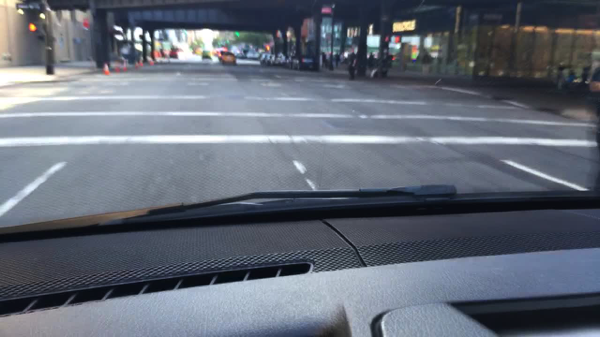car: (588, 68, 600, 96), (292, 56, 314, 70), (221, 53, 237, 65), (272, 54, 285, 64), (169, 49, 185, 57), (202, 51, 212, 59), (260, 52, 266, 63), (266, 54, 272, 64), (217, 52, 224, 59), (237, 54, 246, 59)
person: (557, 65, 563, 85), (580, 68, 587, 85), (334, 52, 339, 69), (322, 52, 327, 68), (350, 53, 355, 64), (568, 72, 573, 83), (368, 53, 374, 62)
traffic light: (28, 23, 40, 32), (235, 32, 239, 37)
